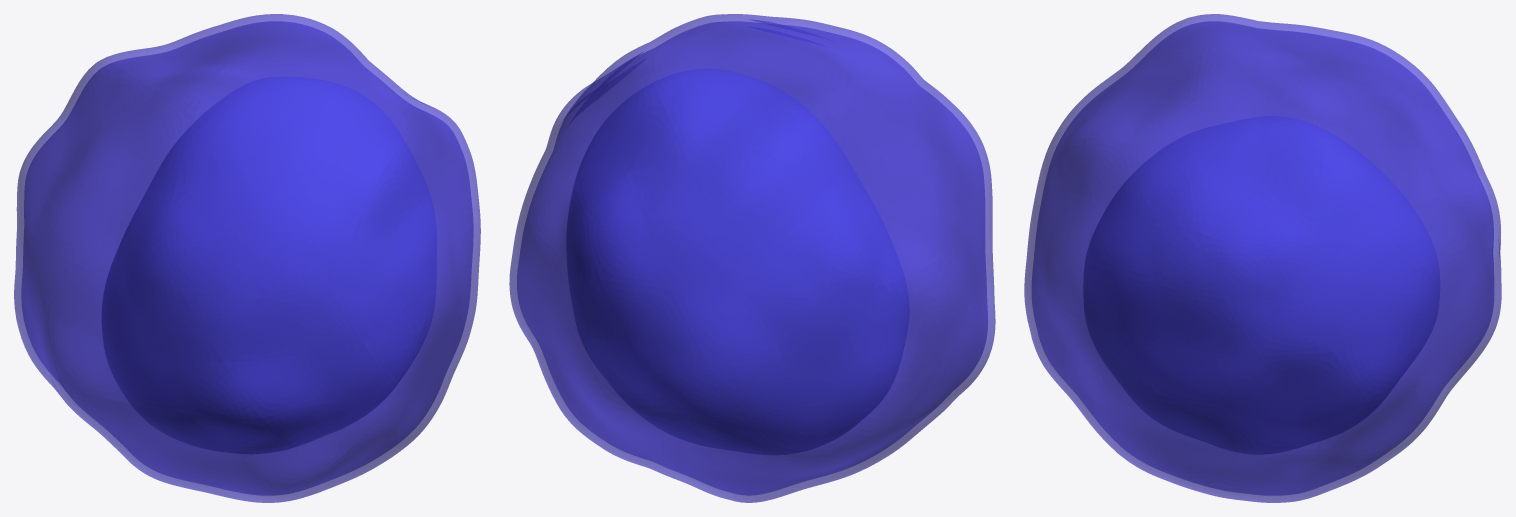
The model's file is shield.glb.
3 views of the same model, side by side, from view 1: azimuth 30°, elevation 25°; view 2: azimuth 150°, elevation 25°; view 3: azimuth 270°, elevation 25° (orthographic). The views are drawn at different scales.
Parts seen in each view (by area): view 1: Icosphere_2, Icosphere.001_3; view 2: Icosphere_2, Icosphere.001_3; view 3: Icosphere_2, Icosphere.001_3.
Part boxes in pixels (bbox=[...]): Icosphere_2: bbox=[14, 14, 480, 502]; Icosphere.001_3: bbox=[102, 76, 436, 453]; Icosphere_2: bbox=[509, 14, 995, 502]; Icosphere.001_3: bbox=[566, 69, 909, 454]; Icosphere_2: bbox=[1024, 14, 1501, 502]; Icosphere.001_3: bbox=[1083, 116, 1439, 454].
Size of the model in its own units: 4.91 by 5.02 by 4.97.
